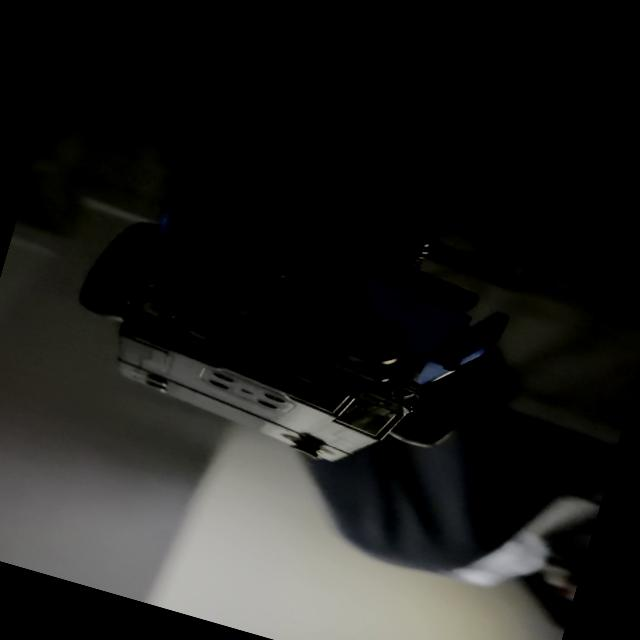mbot-detection: (40, 151, 542, 514)
